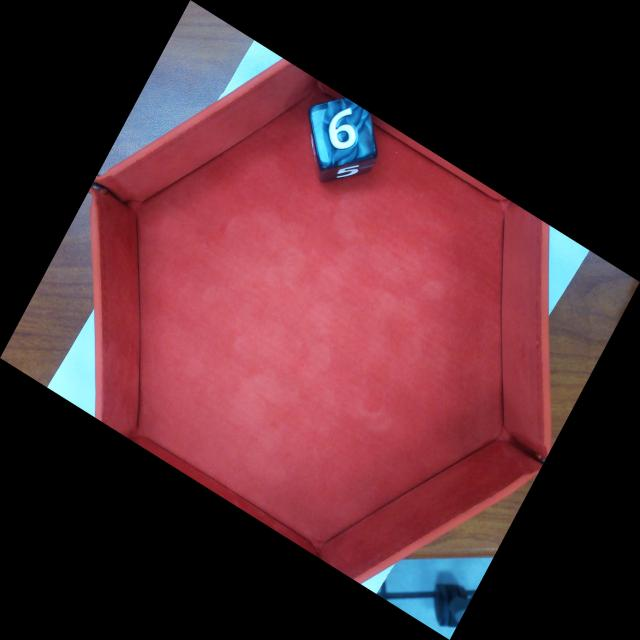dice: (308, 98, 376, 169)
